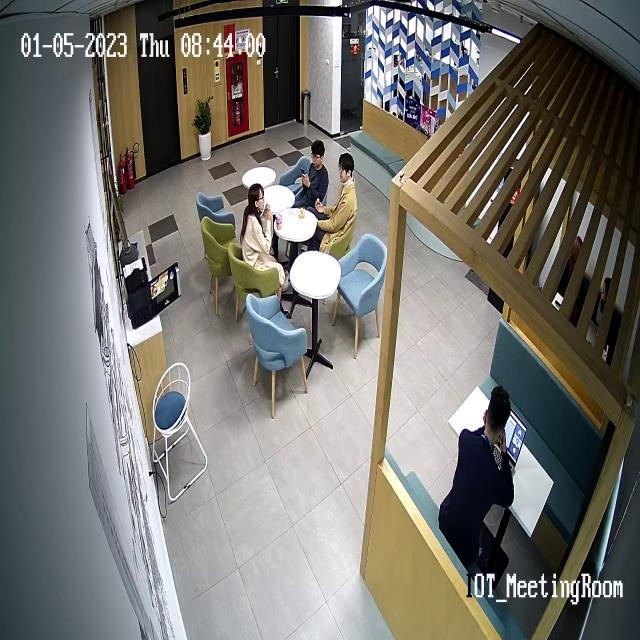person: (438, 384, 515, 597), (240, 181, 287, 289), (314, 151, 358, 257), (280, 139, 329, 210), (552, 235, 584, 311), (586, 275, 612, 348)
